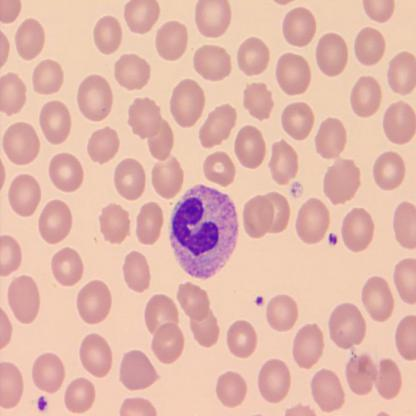Band Neutrophil: (166, 182, 240, 282)
